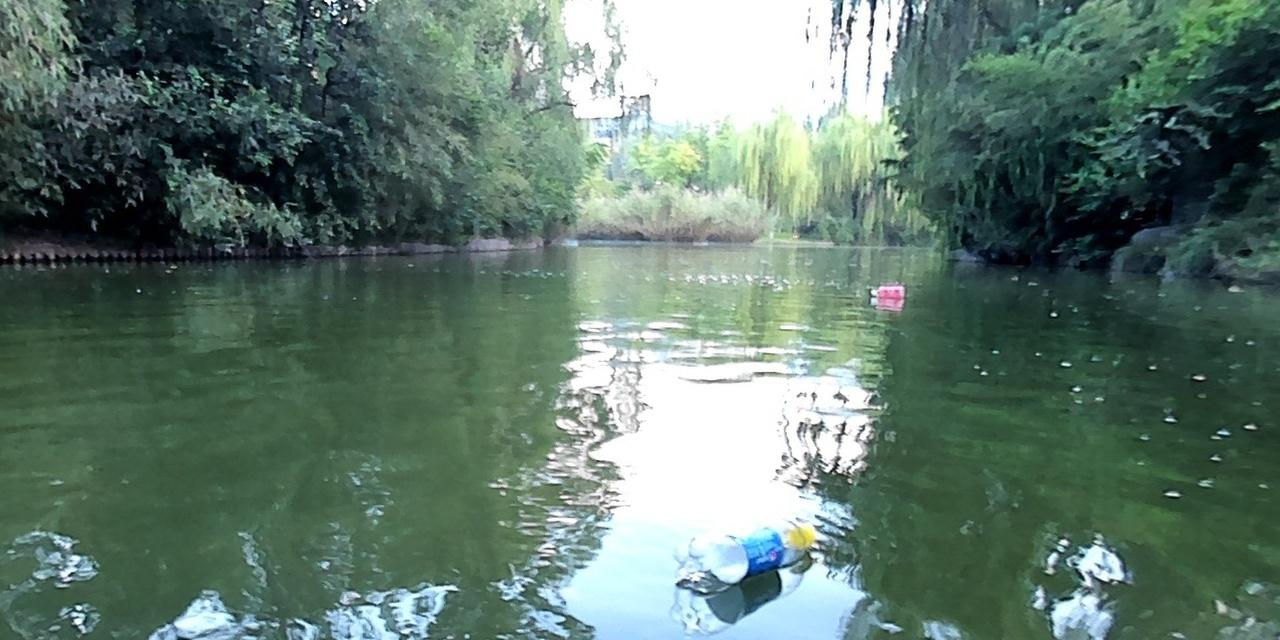bottle: (676, 521, 813, 595), (868, 284, 905, 299)
